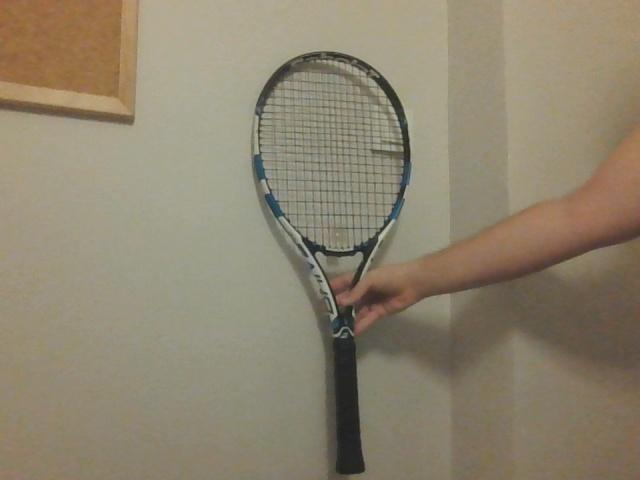Tennis-Racket: (254, 45, 411, 480)
